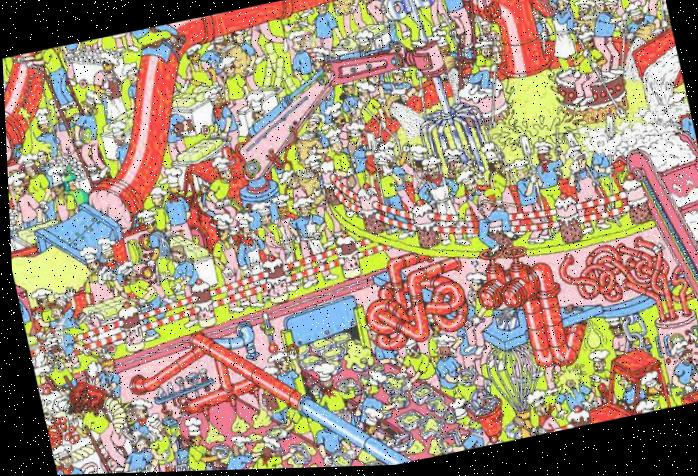waldo: (298, 30, 318, 51)
